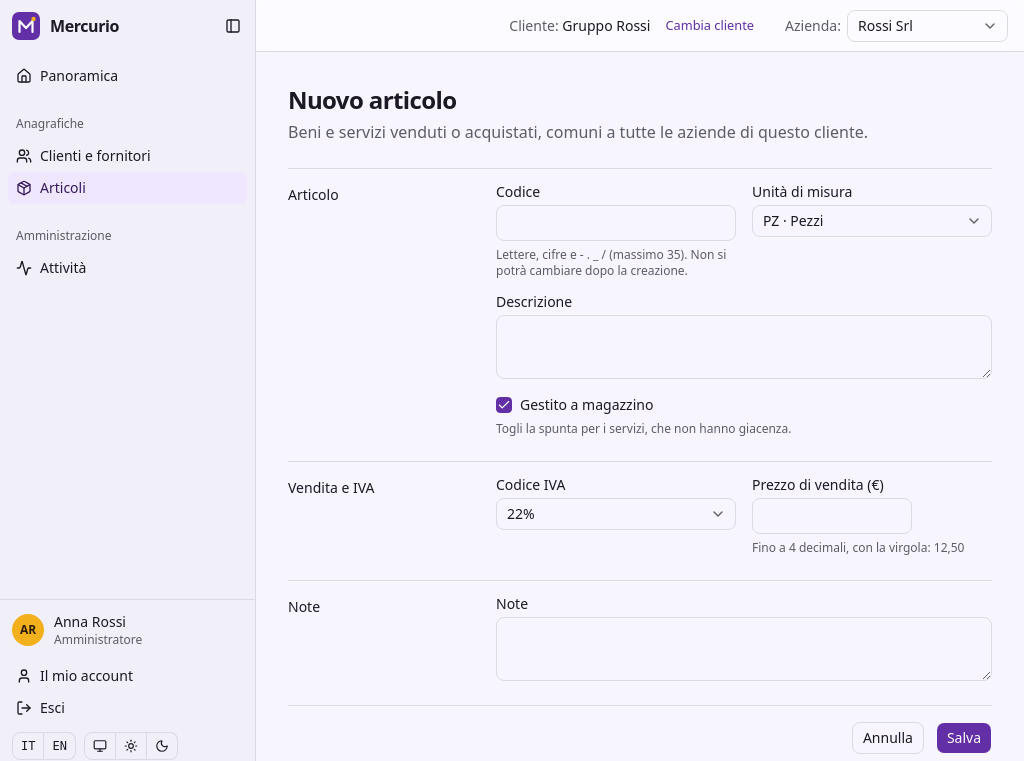
Test: items › refuses a price with the separator of another language, instead of guessing
The width and height of the screenshot is (1024, 761).
Type "VT-1" into the field labelled "Codice" at (616, 223), box left=496, top=205, right=736, bottom=241
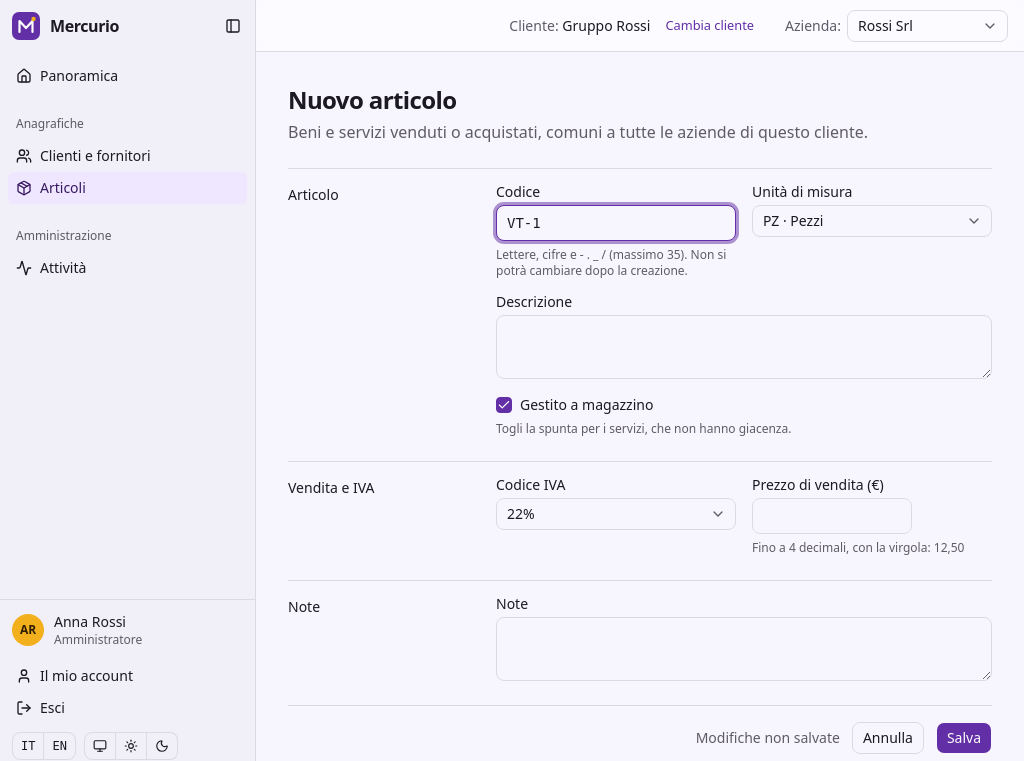
Type "Vite" into the text box labelled "Descrizione" at (744, 347), box left=496, top=315, right=992, bottom=379
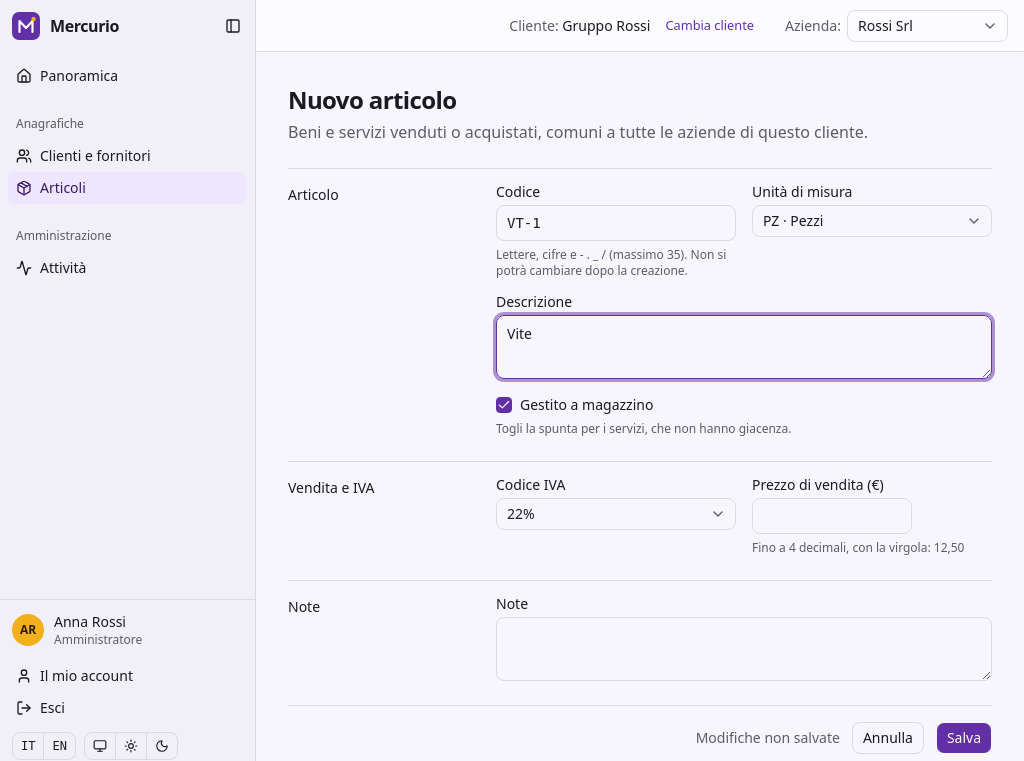
Type "12.50" into the field labelled "Prezzo di vendita (€)" at (832, 516), box left=752, top=498, right=912, bottom=534
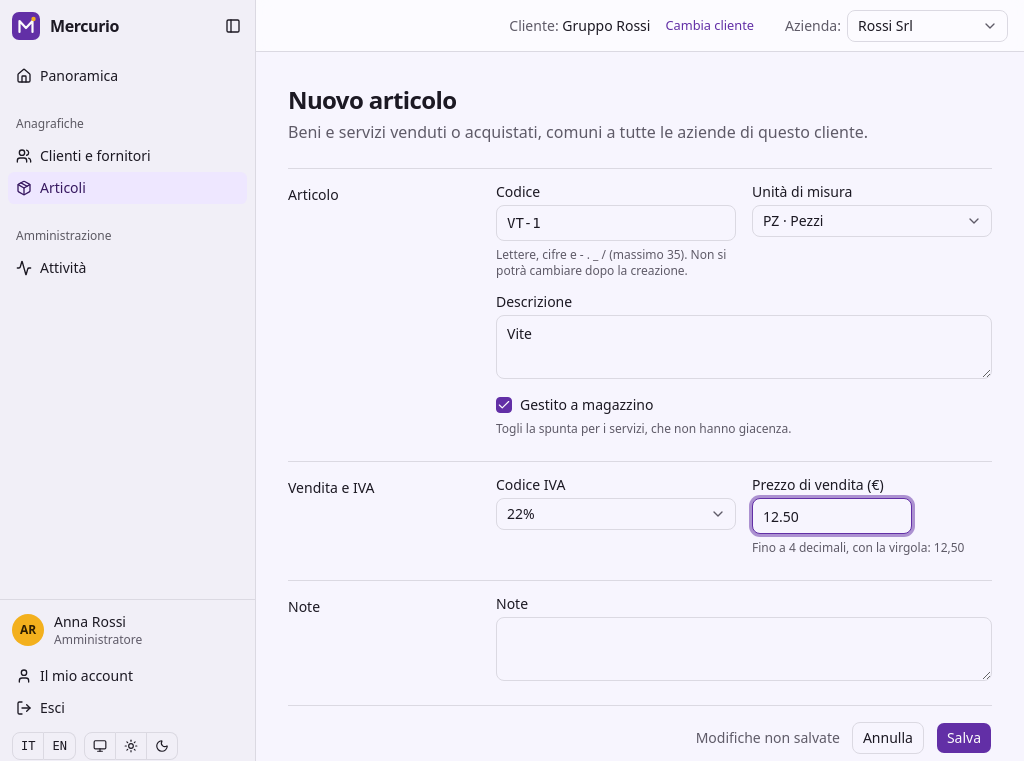
Click the button "Salva" at (964, 738), box left=936, top=722, right=992, bottom=754
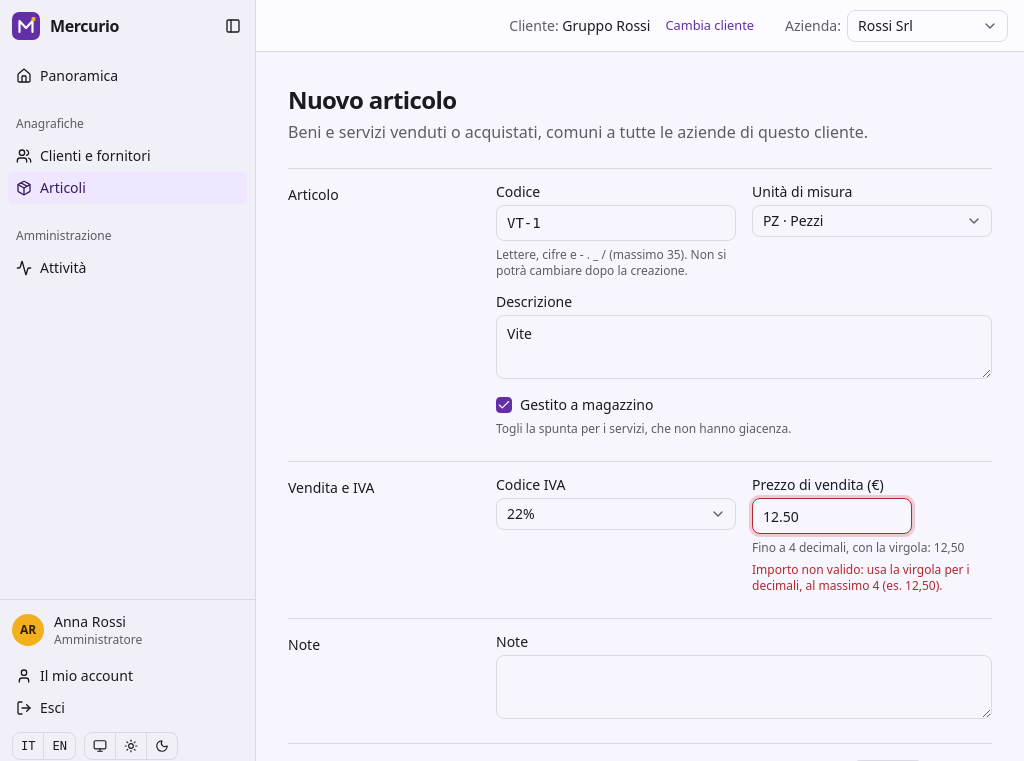
Expected: the text "usa la virgola per i decimali" is shown, left=752, top=561, right=970, bottom=594
